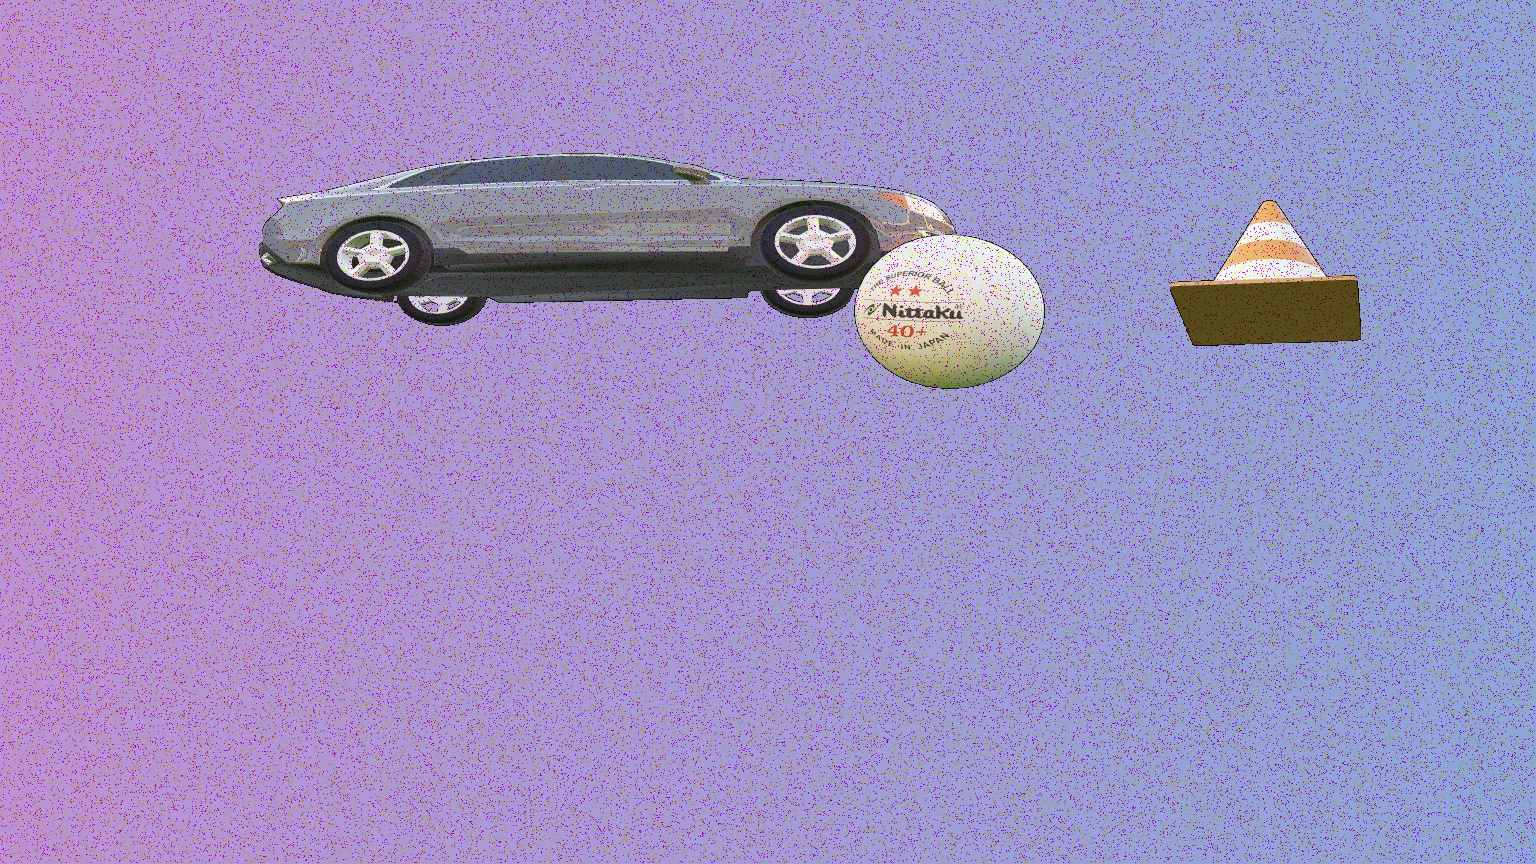coche: (258, 153, 966, 326)
cono: (1169, 200, 1362, 346)
pelota: (855, 234, 1045, 389)
